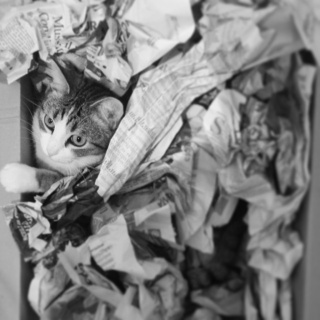Cat: (21, 77, 124, 183)
